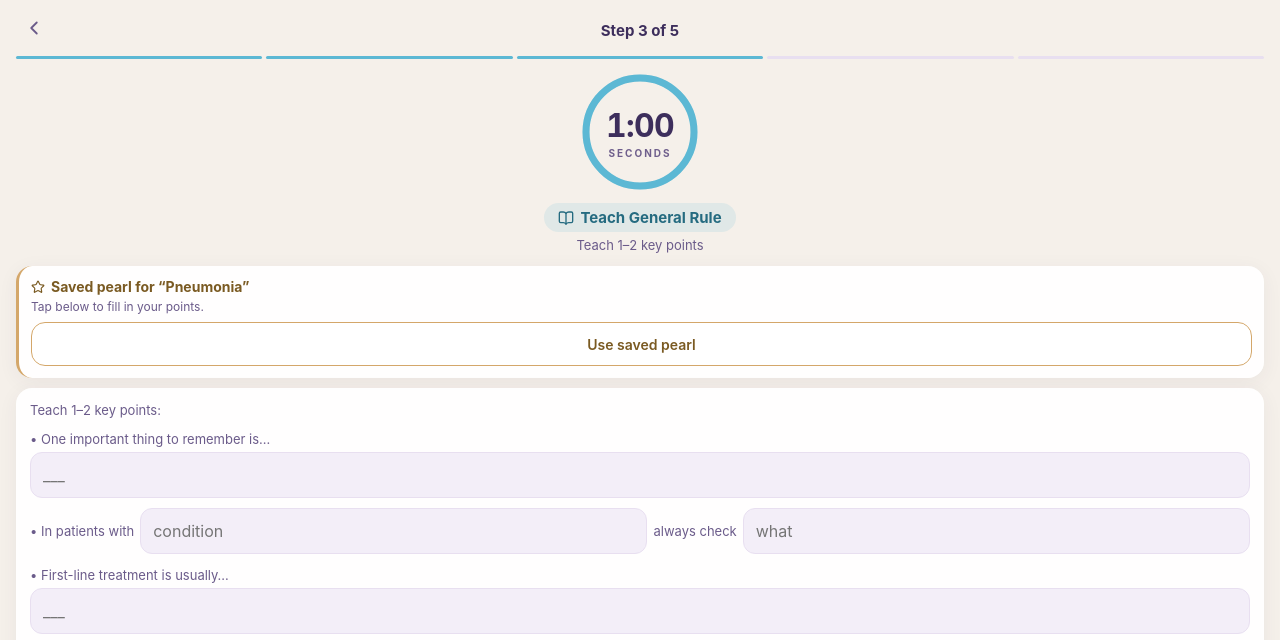
Test: pearl banner on Step 3 › offers the saved pearl, and Use fills all five points
The image size is (1280, 640).
Expected: the element with test id "pearl-banner" shows "Saved pearl for “Pneumonia”", [16,266,1264,378]
Click the button "Use saved pearl". click: point(642, 344)
box: [31,322,1252,366]
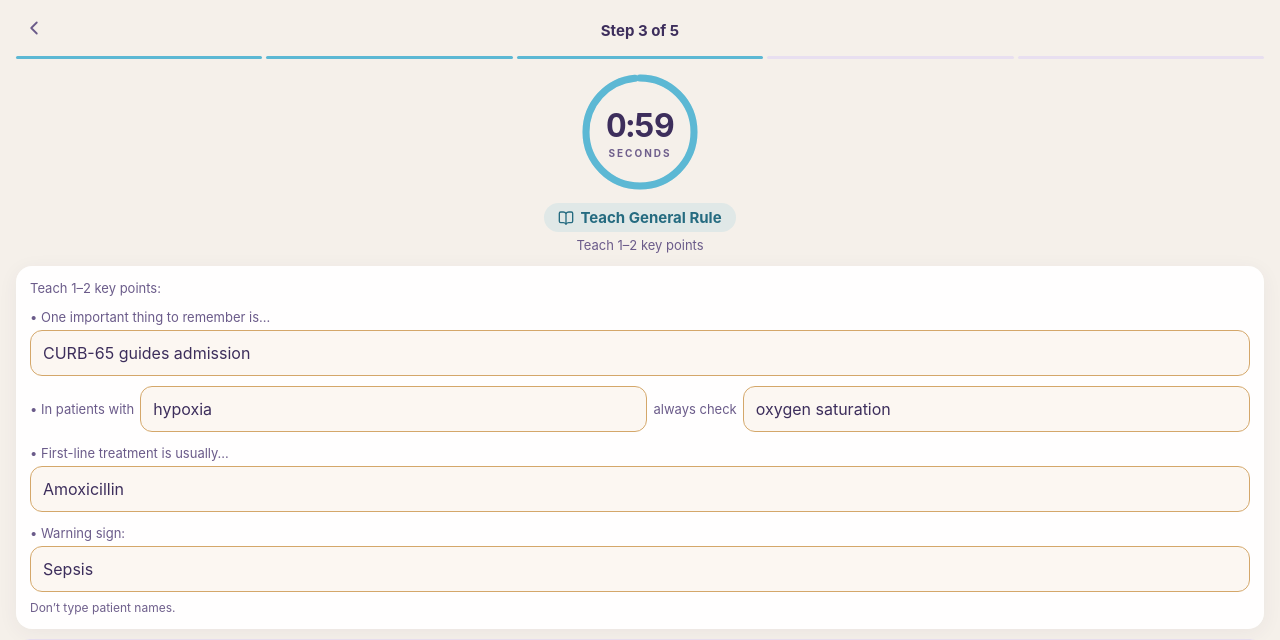
Expected: the field labelled "One important thing to remember is" holds "CURB-65 guides admission", [30,330,1250,376]
Expected: the field labelled "In patients with" holds "hypoxia", [140,386,648,432]
Expected: the field labelled "always check" holds "oxygen saturation", [743,386,1250,432]
